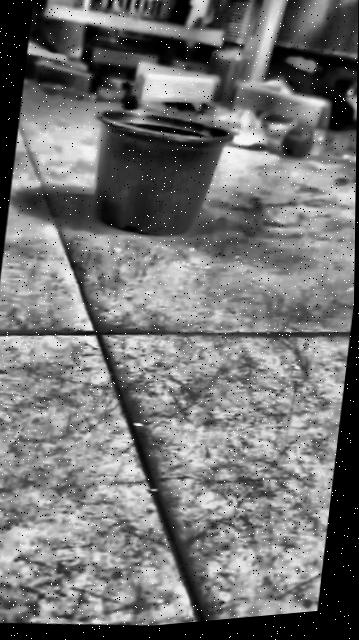pot: (82, 96, 237, 247)
